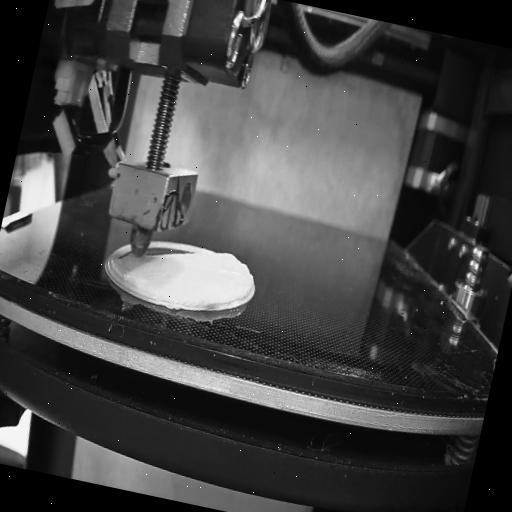over_extrusion: (214, 247, 260, 304)
